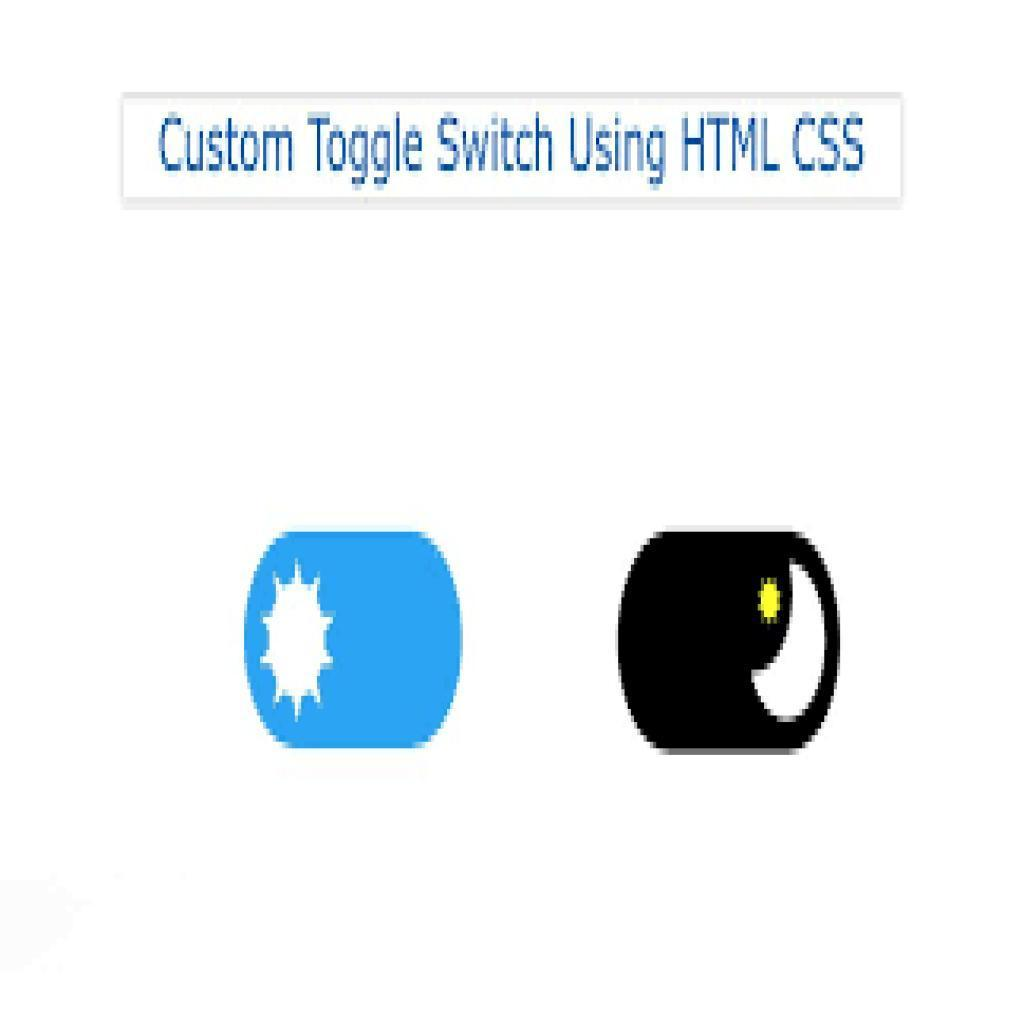switch: (618, 533, 842, 756), (244, 535, 463, 749)
